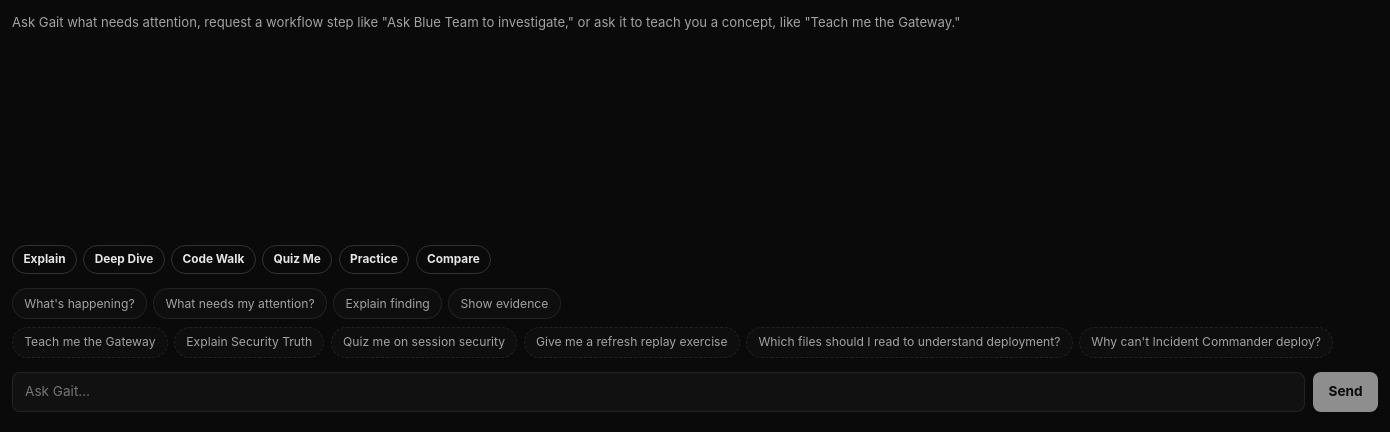
Test: SecurityCopilotPanel mastery mode controls (B-UX3) › clicking a mode button with an empty draft fills the lead-in phrase instead of sending
What coordinates should you click on to do the following:
click the button "Deep Dive"
I would click on:
 (124, 260)
Its box is left=83, top=245, right=165, bottom=274.
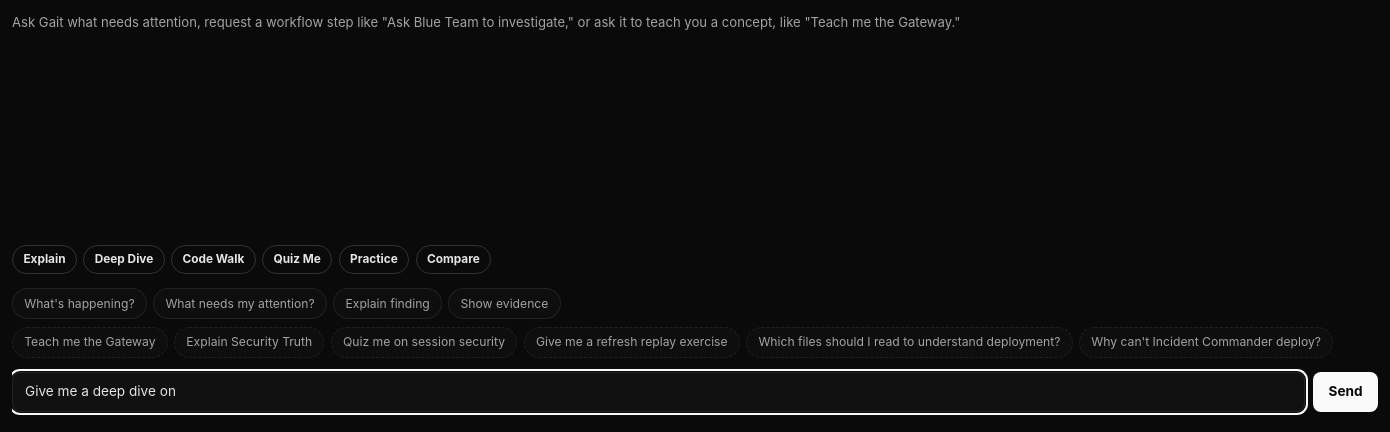
Now the field named "Ask Security Copilot" holds "Give me a deep dive on ", box left=12, top=372, right=1305, bottom=412
